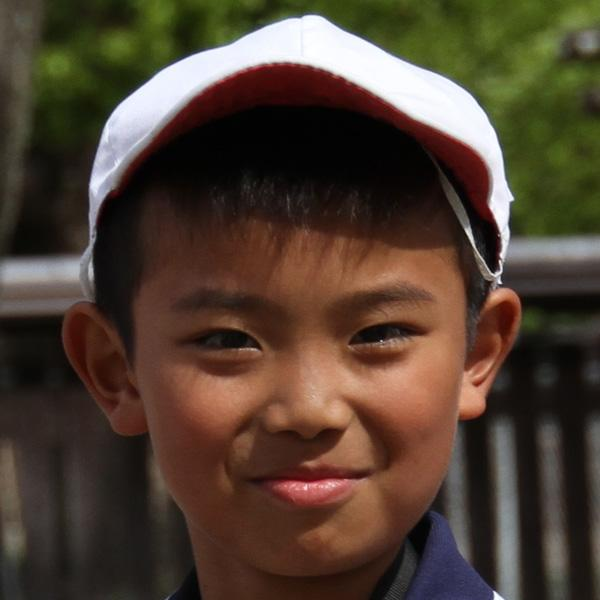Eyes: (334, 309, 436, 368), (171, 311, 267, 372)
